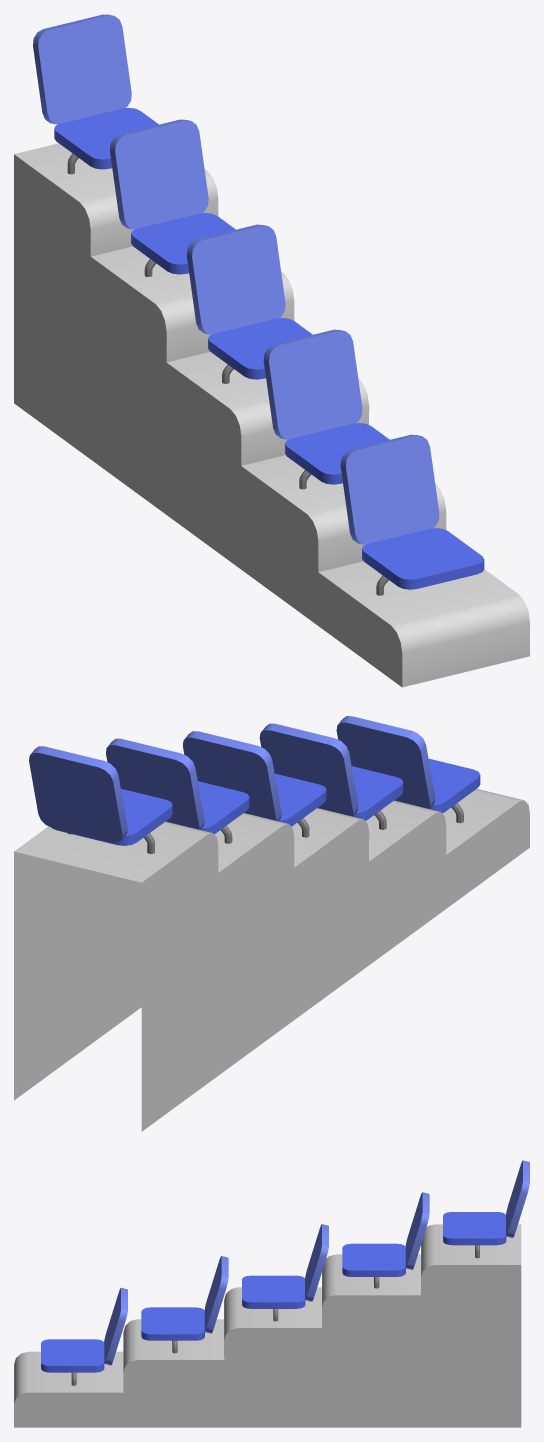
File: Tribune A.fbx
3 renders of one model, top to bottom at view 1: azimuth 30°, elevation 25°; view 2: azimuth 150°, elevation 25°; view 3: azimuth 270°, elevation 25°, orthographic. The views are drawn at different scales.
Parts seen in each view (by area): view 1: Tribune A; view 2: Tribune A; view 3: Tribune A.
Boxes of the visible parts, x1,y1,x2,y2 form: Tribune A: (14,14,529,687); Tribune A: (14,716,529,1131); Tribune A: (14,1160,529,1427).
Bounding box in the file's own units: 139 × 377 × 744.
